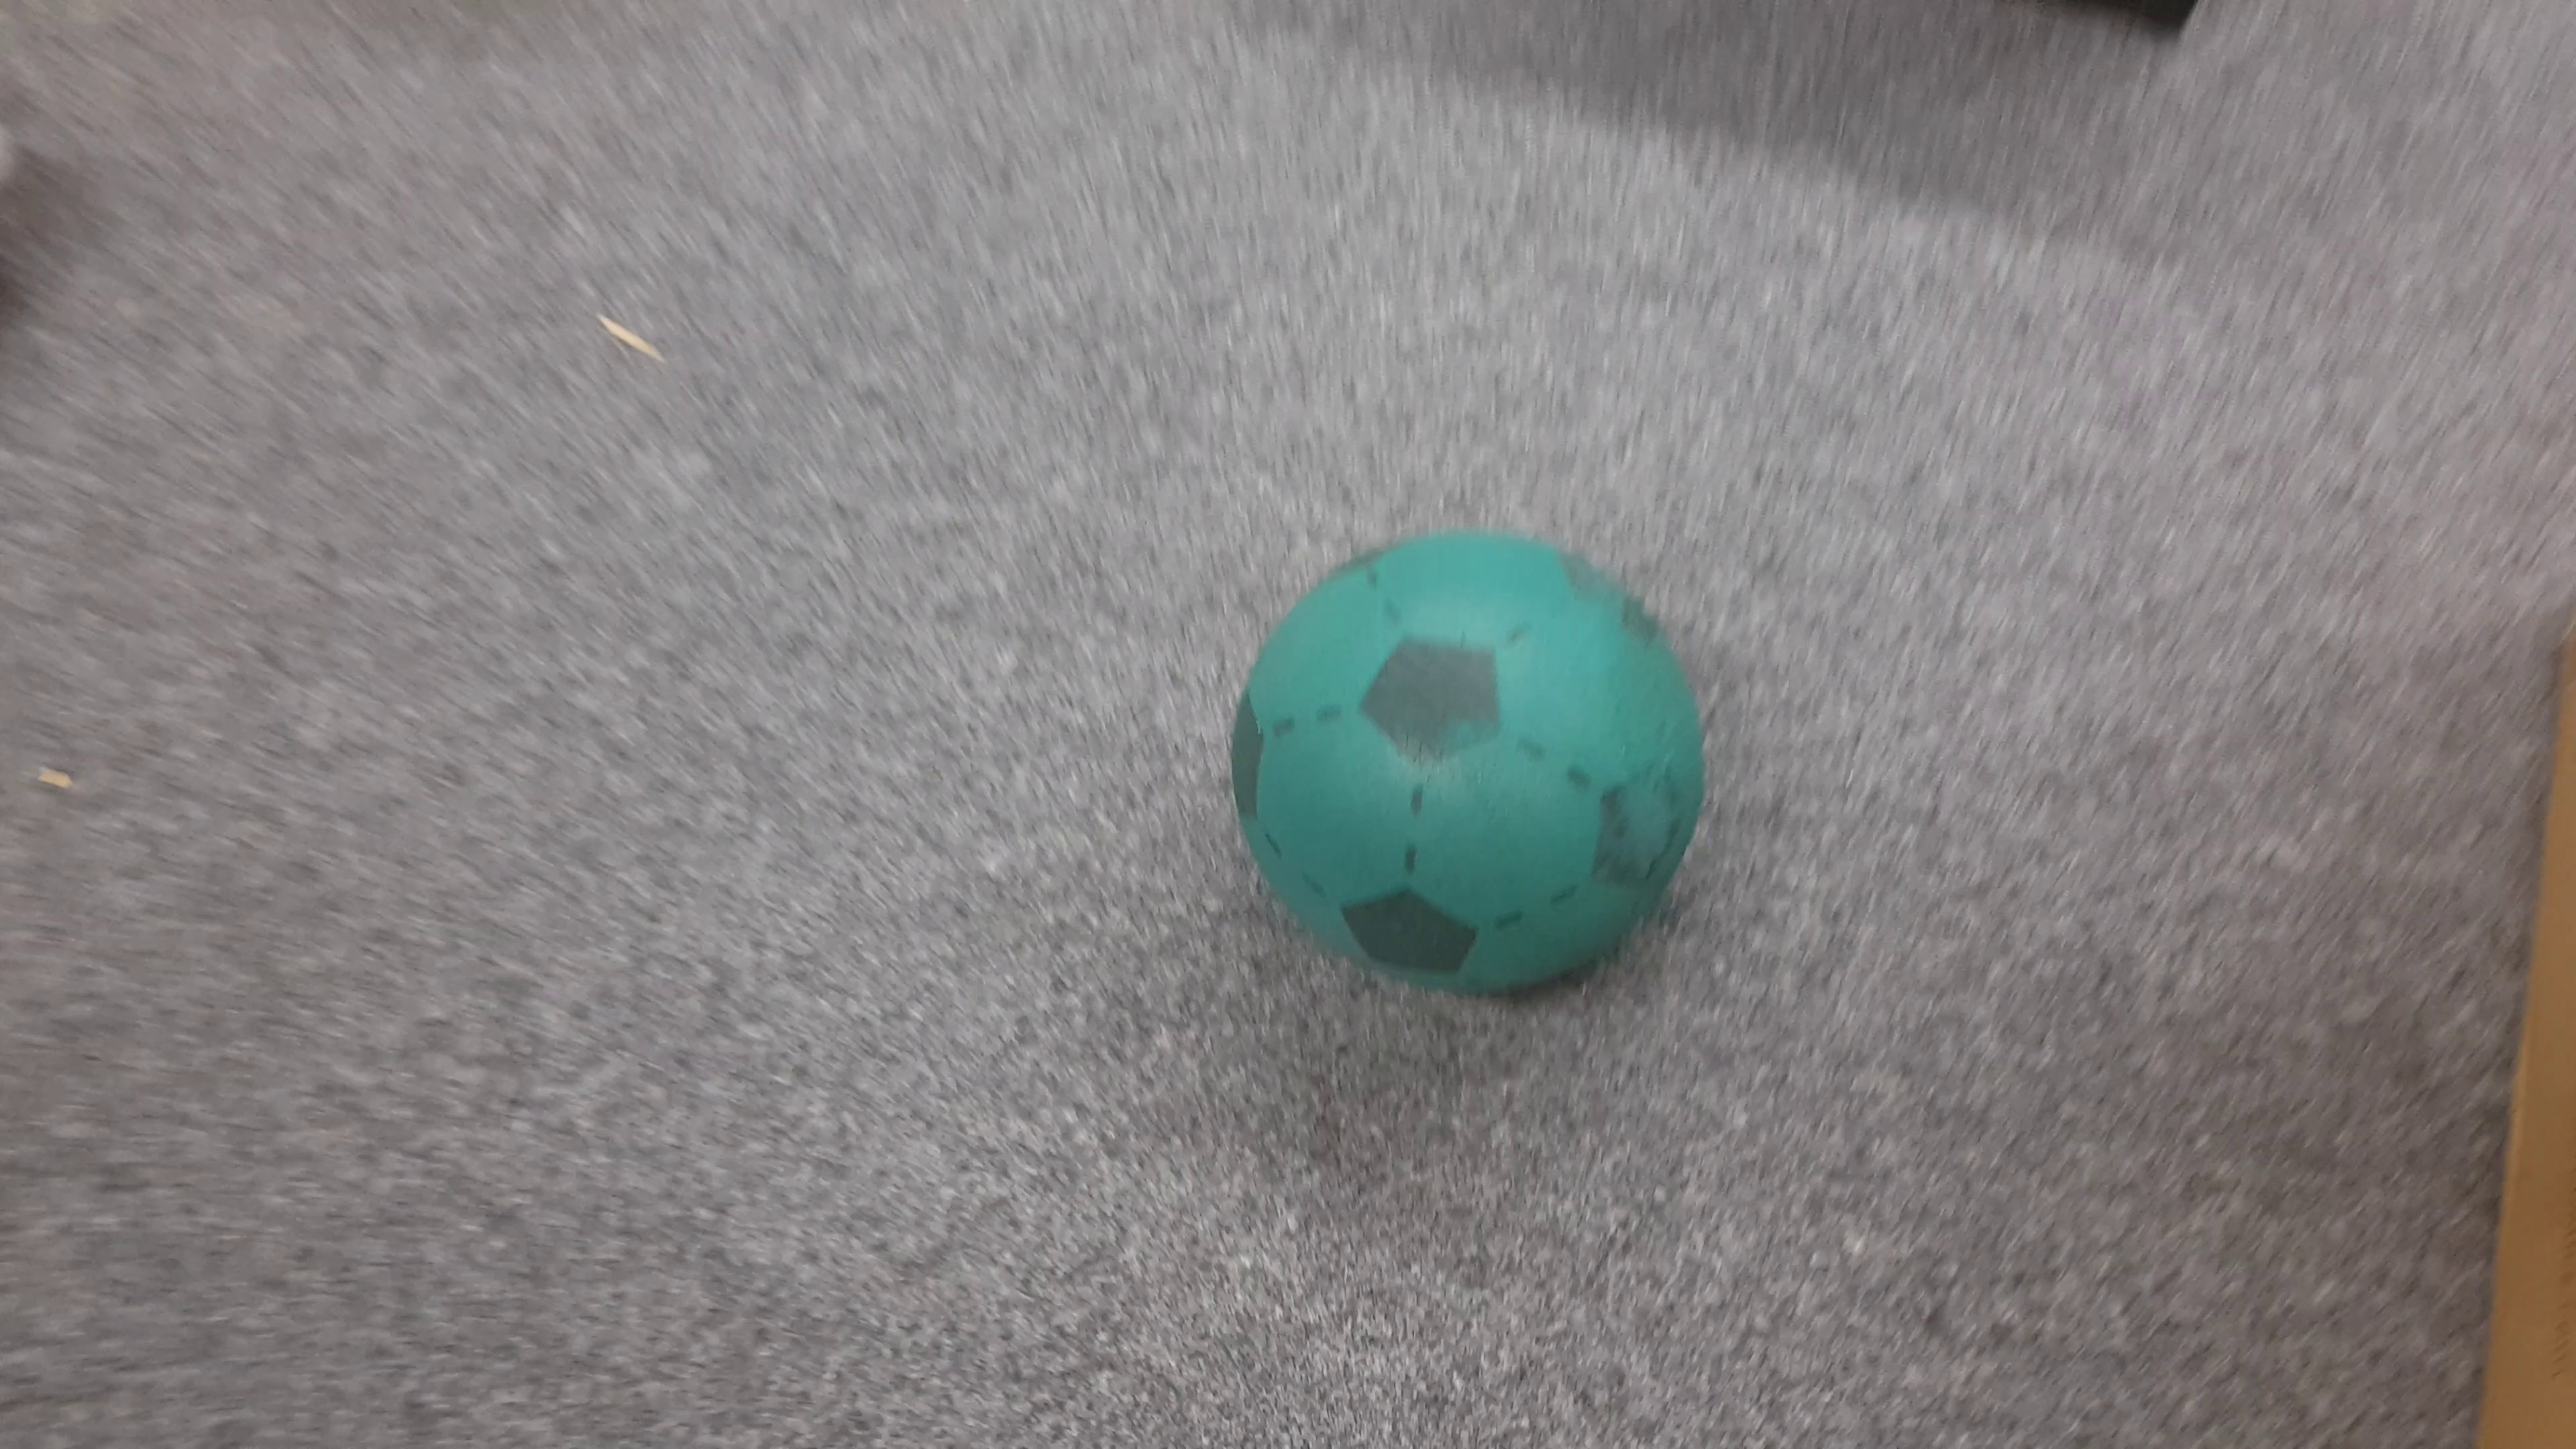kick: (1235, 536, 1707, 998)
